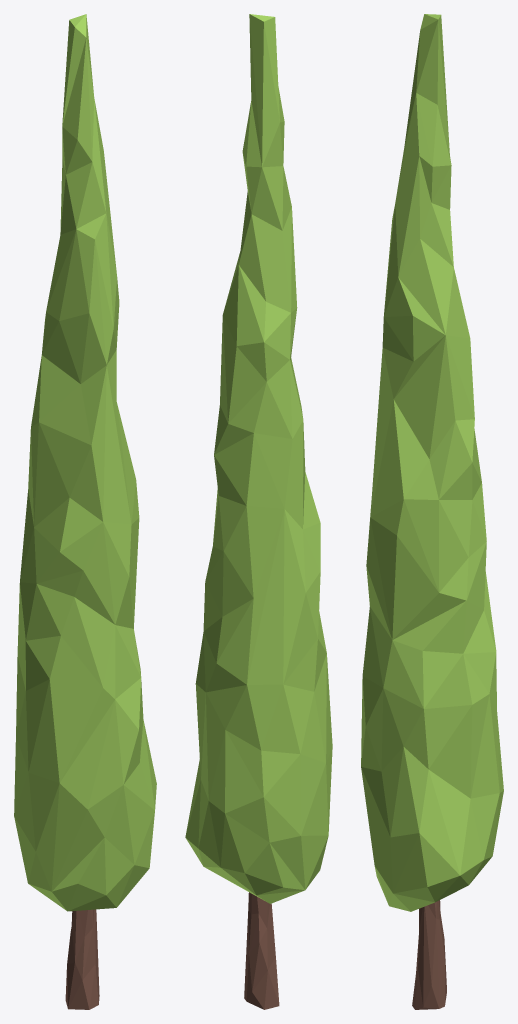
The model's file is pine_b.FBX.
3 renders of one model, left to right at view 1: azimuth 30°, elevation 25°; view 2: azimuth 150°, elevation 25°; view 3: azimuth 270°, elevation 25°, orthographic.
Visible parts, largest first — view 1: pine_b_LOD0; view 2: pine_b_LOD0; view 3: pine_b_LOD0.
Boxes of the visible parts, x1,y1,x2,y2 form: pine_b_LOD0: [14, 14, 156, 1009]; pine_b_LOD0: [185, 14, 332, 1009]; pine_b_LOD0: [361, 14, 503, 1009].
Size of what is drawn, in the model's own units: 266 by 1955 by 255.
